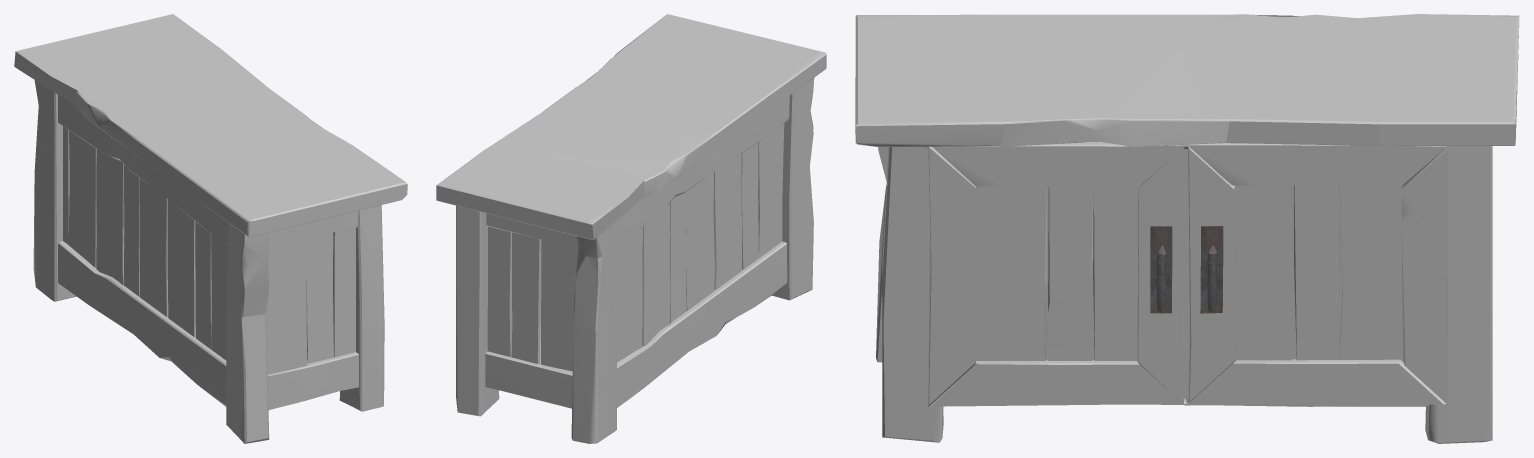
File: SM_Cabinet_01.fbx
3 renders of one model, left to right at view 1: azimuth 30°, elevation 25°; view 2: azimuth 150°, elevation 25°; view 3: azimuth 270°, elevation 25°, orthographic. The views are drawn at different scales.
Parts seen in each view (by area): view 1: SM_Cabinet_01_LOD0; view 2: SM_Cabinet_01_LOD0; view 3: SM_Cabinet_01_LOD0.
Part boxes in pixels (x1,y1,x2,y2): SM_Cabinet_01_LOD0: (14, 14, 407, 443); SM_Cabinet_01_LOD0: (436, 14, 826, 443); SM_Cabinet_01_LOD0: (855, 14, 1519, 443).
Bounding box in the file's own units: 71.33 × 165 × 90.38.
